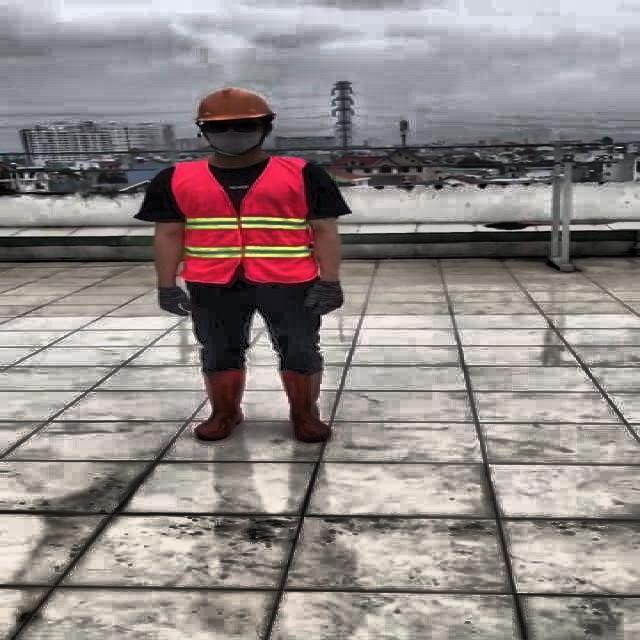safety_helmet: (184, 86, 276, 123)
safety_jacket: (170, 158, 318, 284)
